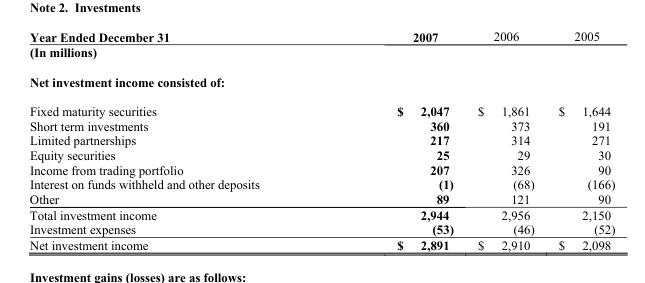table: (28, 29, 614, 251)
table column: (28, 29, 327, 251), (327, 29, 464, 251), (464, 29, 545, 251), (545, 29, 614, 251)
table column header: (28, 29, 614, 44)
table projected row header: (28, 66, 614, 95), (28, 44, 614, 66)
table row: (28, 66, 614, 95), (28, 44, 614, 66), (28, 95, 614, 117), (28, 29, 614, 44), (28, 117, 614, 132), (28, 132, 614, 147), (28, 147, 614, 162), (28, 176, 614, 191), (28, 191, 614, 206), (28, 206, 614, 221), (28, 221, 614, 236), (28, 236, 614, 251), (28, 162, 614, 176)
